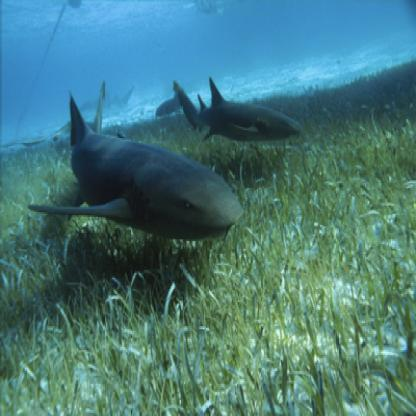Shark -Selachimorpha-: (25, 88, 247, 250), (160, 70, 307, 144)
